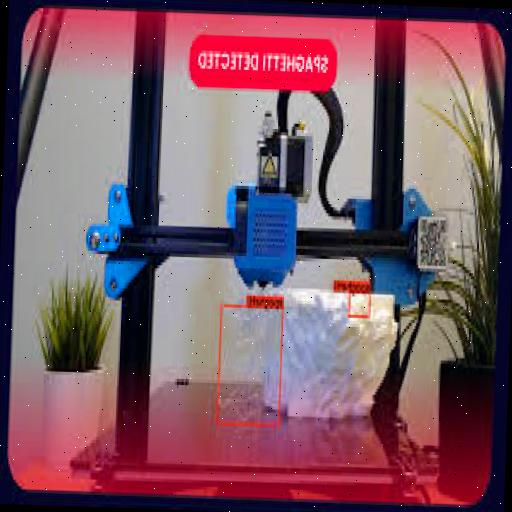spaghetti: (214, 297, 284, 429)
